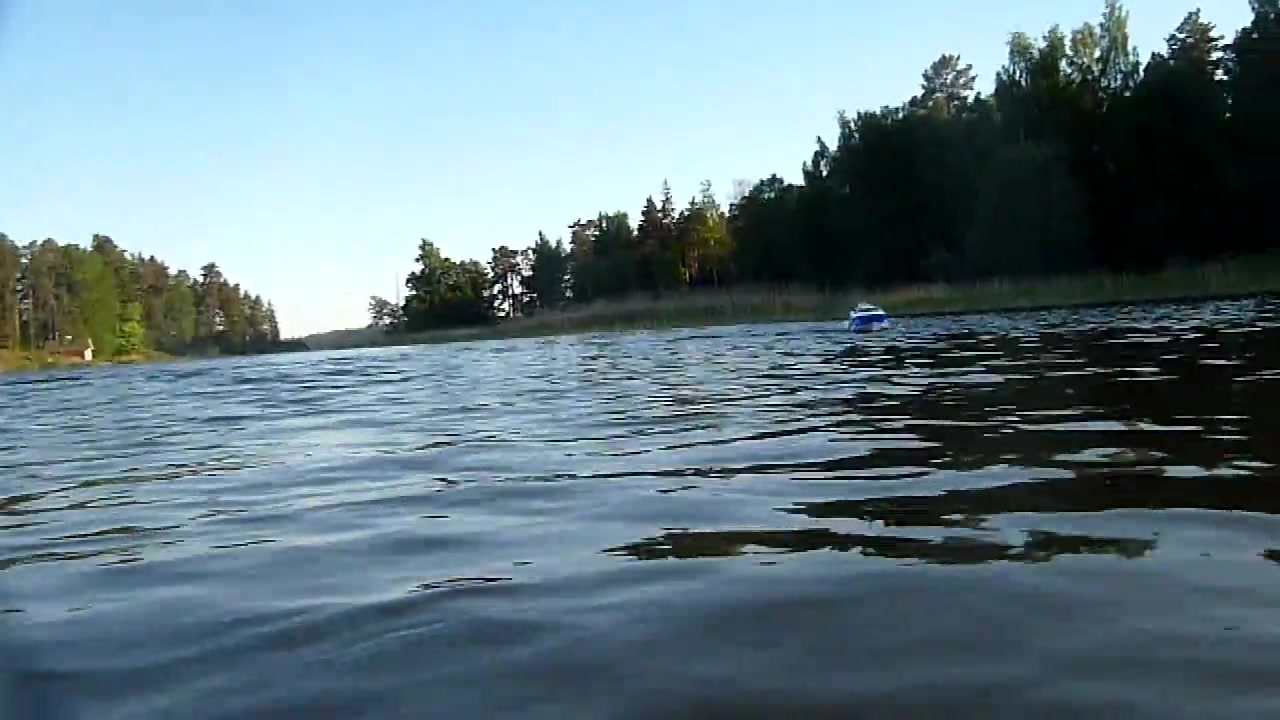boat: (845, 303, 897, 337)
